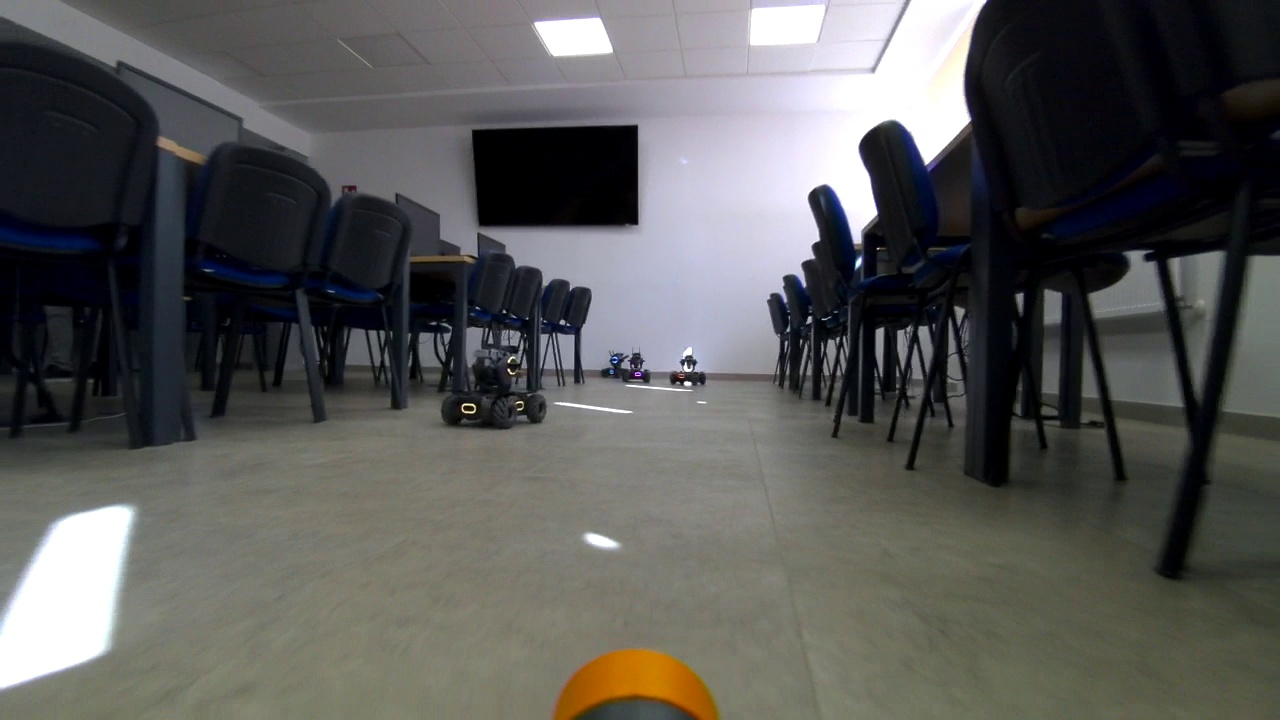robot: (439, 347, 553, 422), (672, 354, 707, 390), (623, 354, 654, 380), (599, 350, 628, 374)
